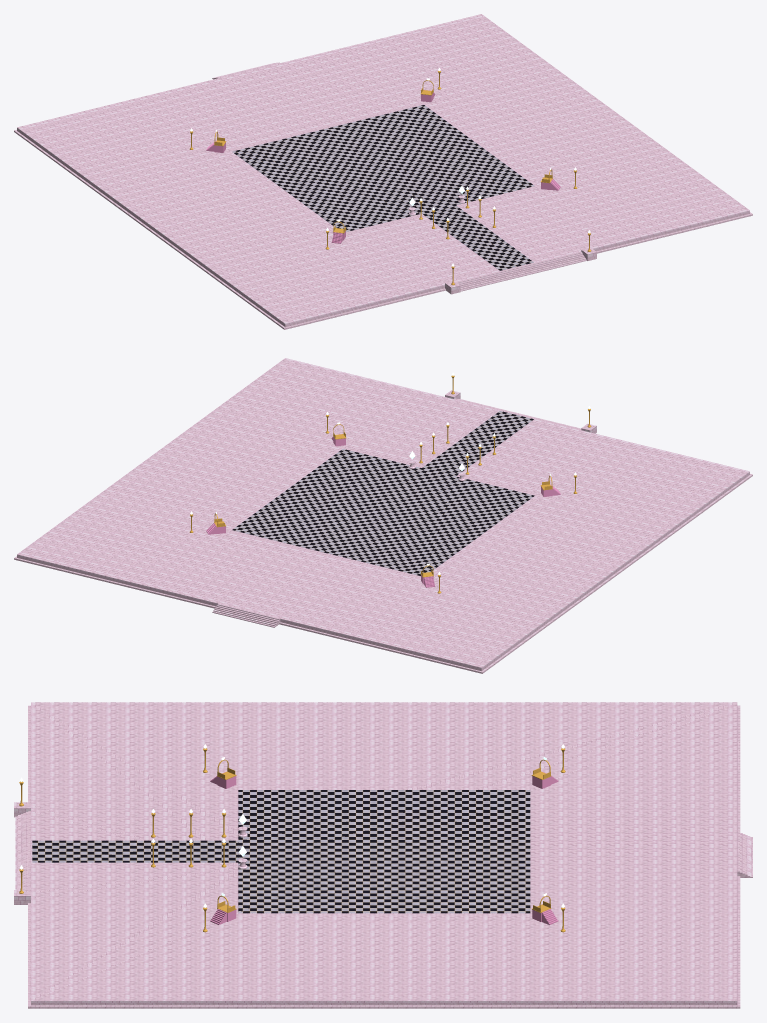
The model's file is citadel_grounds.glb.
3 views of the same model, one above another, from view 1: azimuth 30°, elevation 25°; view 2: azimuth 150°, elevation 25°; view 3: azimuth 270°, elevation 25° (orthographic). The views are drawn at different scales.
Visible parts, largest first — view 1: grounds_trim, grounds_floor, grounds_gold, grounds_pink_floor; view 2: grounds_trim, grounds_floor, grounds_gold, grounds_pink_floor; view 3: grounds_trim, grounds_floor, grounds_gold, grounds_pink_floor.
Part boxes in pixels (bbox=[...]): grounds_trim: bbox=[14, 14, 752, 329]; grounds_floor: bbox=[232, 105, 534, 270]; grounds_gold: bbox=[189, 71, 591, 285]; grounds_pink_floor: bbox=[206, 90, 560, 243]; grounds_trim: bbox=[14, 358, 752, 673]; grounds_floor: bbox=[232, 411, 534, 575]; grounds_gold: bbox=[189, 375, 591, 593]; grounds_pink_floor: bbox=[206, 434, 560, 587]; grounds_trim: bbox=[14, 702, 752, 1008]; grounds_floor: bbox=[32, 790, 530, 913]; grounds_gold: bbox=[19, 748, 565, 932]; grounds_pink_floor: bbox=[210, 772, 558, 924].
Bounding box in the file's own units: 151 × 8.7 × 157.
5 materials, 3 textured.
